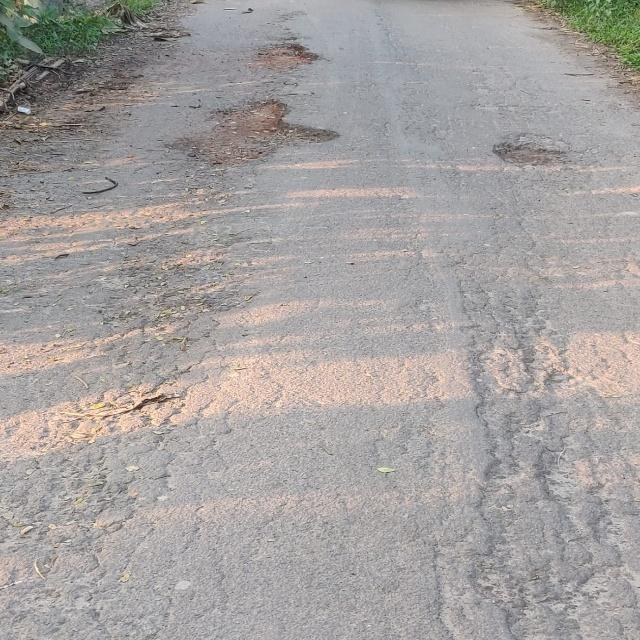Surface Erosion: (18, 8, 604, 287)
